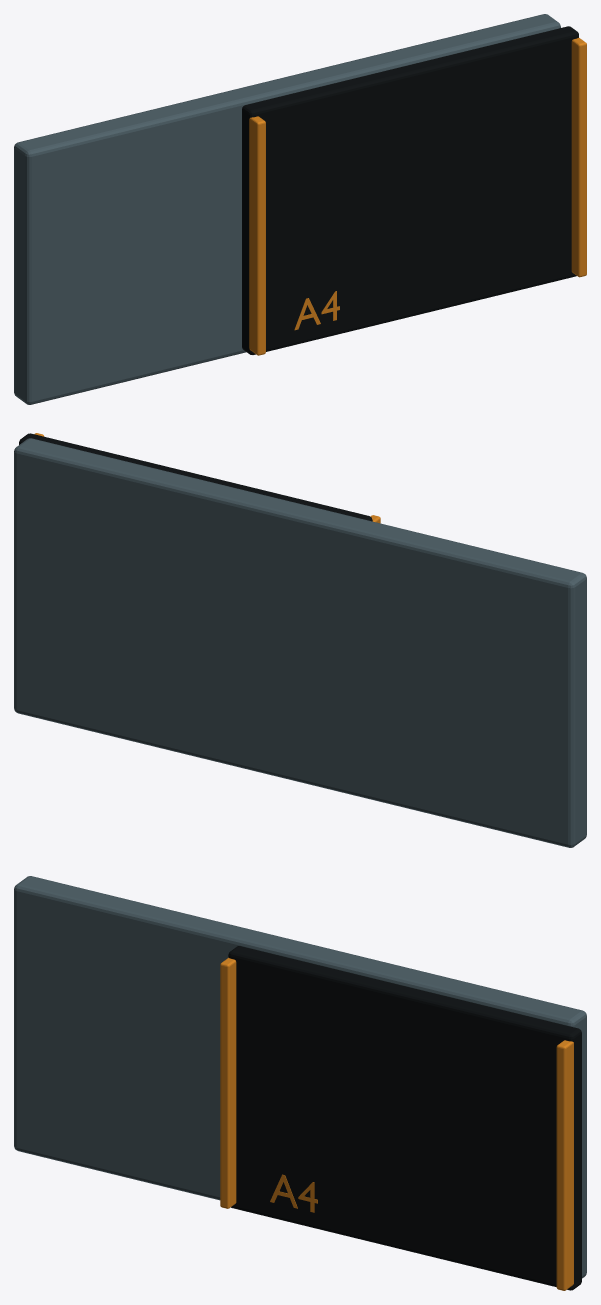
File: slot_a4.obj
The picture shows the model from 3 angles, top to bottom: view 1: azimuth 30°, elevation 25°; view 2: azimuth 150°, elevation 25°; view 3: azimuth 330°, elevation 25°; orthographic projection. The views are drawn at different scales.
Parts seen in each view (by area): view 1: flex__slot_a4__staging_tray, flex__slot_a4__extension, flex__slot_a4__locator, flex__slot_a4__locator.001, flex__slot_a4__id; view 2: flex__slot_a4__extension, flex__slot_a4__staging_tray; view 3: flex__slot_a4__staging_tray, flex__slot_a4__extension, flex__slot_a4__locator.001, flex__slot_a4__locator, flex__slot_a4__id.
Part boxes in pixels (x1,y1,x2,y2): flex__slot_a4__staging_tray: [242, 26, 578, 354]; flex__slot_a4__extension: [14, 14, 560, 404]; flex__slot_a4__locator: [249, 116, 265, 355]; flex__slot_a4__locator.001: [571, 38, 586, 277]; flex__slot_a4__id: [294, 291, 339, 330]; flex__slot_a4__extension: [14, 438, 586, 847]; flex__slot_a4__staging_tray: [19, 433, 372, 521]; flex__slot_a4__staging_tray: [228, 946, 581, 1290]; flex__slot_a4__extension: [14, 876, 586, 1278]; flex__slot_a4__locator.001: [556, 1040, 573, 1290]; flex__slot_a4__locator: [220, 957, 236, 1208]; flex__slot_a4__id: [270, 1174, 317, 1212].
Bounding box in the file's own units: 0.244 × 0.109 × 0.0245.
